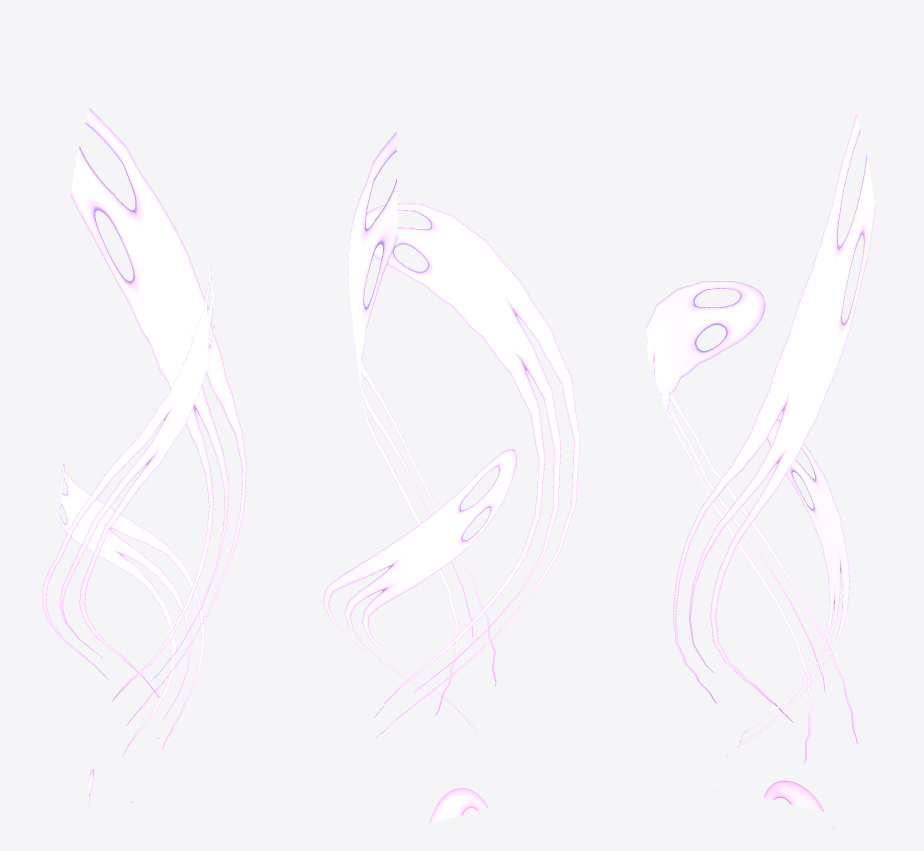
The model's file is Swirls_01.fbx.
3 views of the same model, side by side, from view 1: azimuth 30°, elevation 25°; view 2: azimuth 150°, elevation 25°; view 3: azimuth 270°, elevation 25° (orthographic). The views are drawn at different scales.
Visible parts, largest first — view 1: ghostSwirl_3, ghostSwirl_2, ghostSwirl_1; view 2: ghostSwirl_2, ghostSwirl_1, ghostSwirl_3; view 3: ghostSwirl_3, ghostSwirl_2, ghostSwirl_1.
Part boxes in pixels (left/top/right/bottom): ghostSwirl_3: left=70, top=108, right=246, bottom=807; ghostSwirl_2: left=42, top=252, right=214, bottom=738; ghostSwirl_1: left=59, top=464, right=204, bottom=802; ghostSwirl_2: left=366, top=203, right=580, bottom=738; ghostSwirl_1: left=323, top=449, right=516, bottom=768; ghostSwirl_3: left=348, top=132, right=496, bottom=822; ghostSwirl_3: left=673, top=114, right=875, bottom=811; ghostSwirl_2: left=645, top=281, right=857, bottom=827; ghostSwirl_1: left=717, top=419, right=849, bottom=790.
Bounding box in the file's own units: 4.5 × 14.1 × 4.37.
